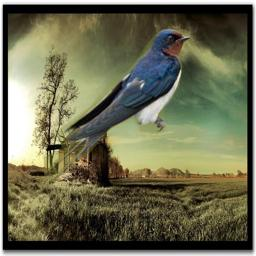Swallow: (44, 29, 191, 183)
